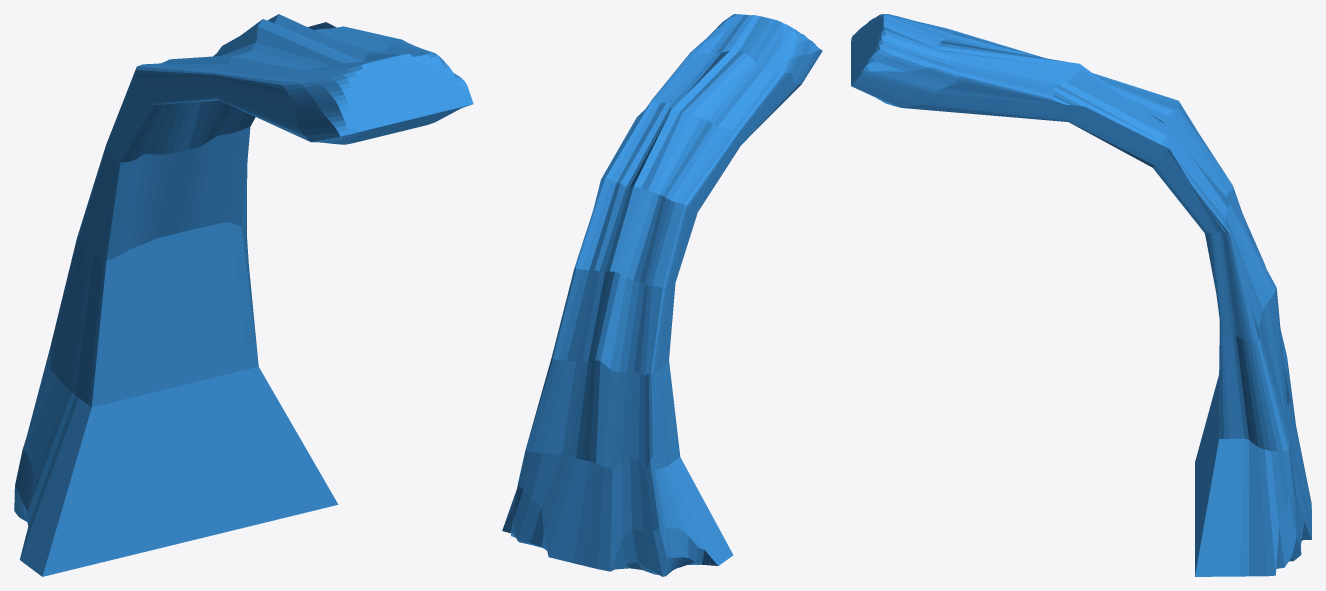
File: WaterWaterrad.fbx
3 renders of one model, left to right at view 1: azimuth 30°, elevation 25°; view 2: azimuth 150°, elevation 25°; view 3: azimuth 270°, elevation 25°, orthographic. The views are drawn at different scales.
Parts seen in each view (by area): view 1: Cube; view 2: Cube; view 3: Cube.
Boxes of the visible parts, left/top/right/bottom form: Cube: left=14, top=14, right=473, bottom=576; Cube: left=502, top=14, right=822, bottom=576; Cube: left=851, top=14, right=1311, bottom=576.
Bounding box in the file's own units: 1035 × 2091 × 1759.
